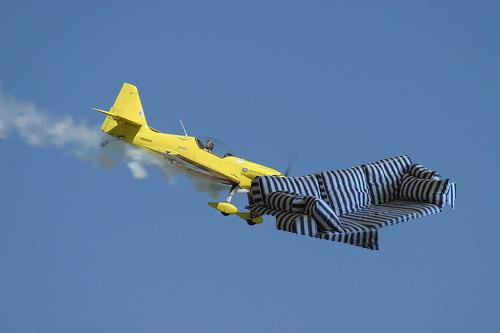tampered: (246, 156, 456, 250)
